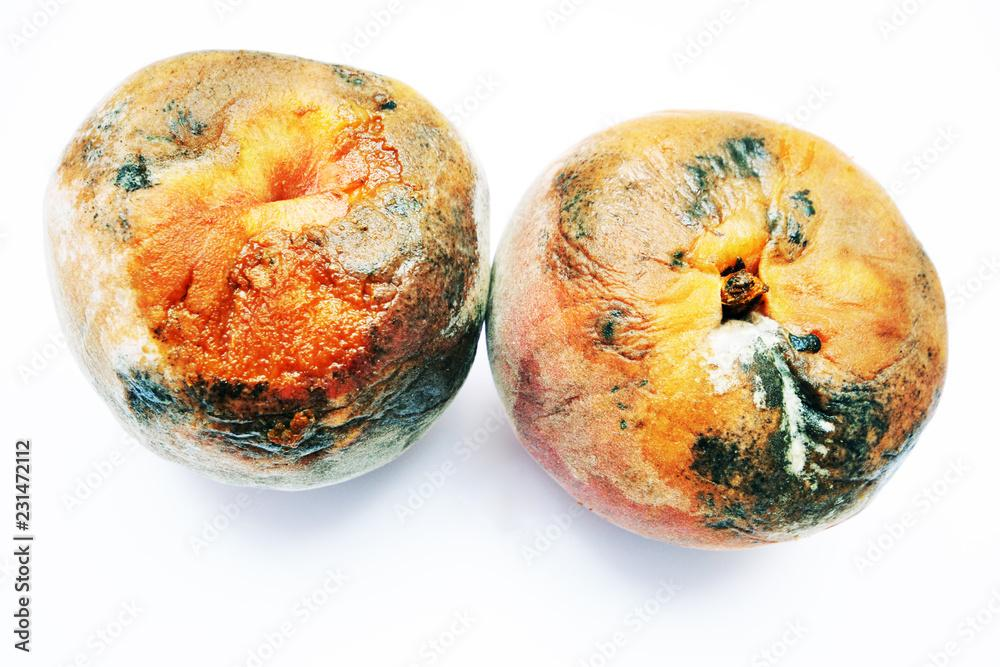Peach Rotten: (487, 112, 946, 546), (46, 51, 487, 488)
